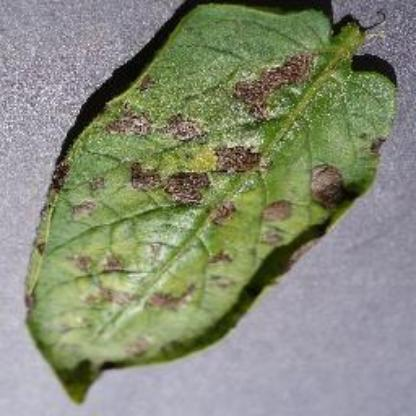Early-Blight: (22, 0, 414, 410)
